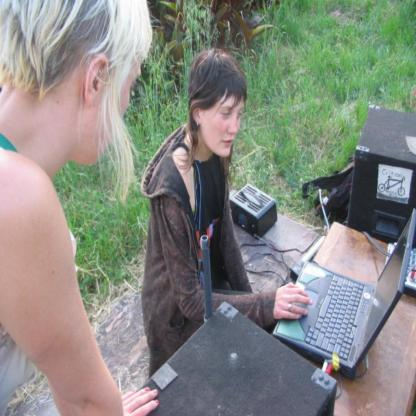board: (272, 208, 416, 377)
